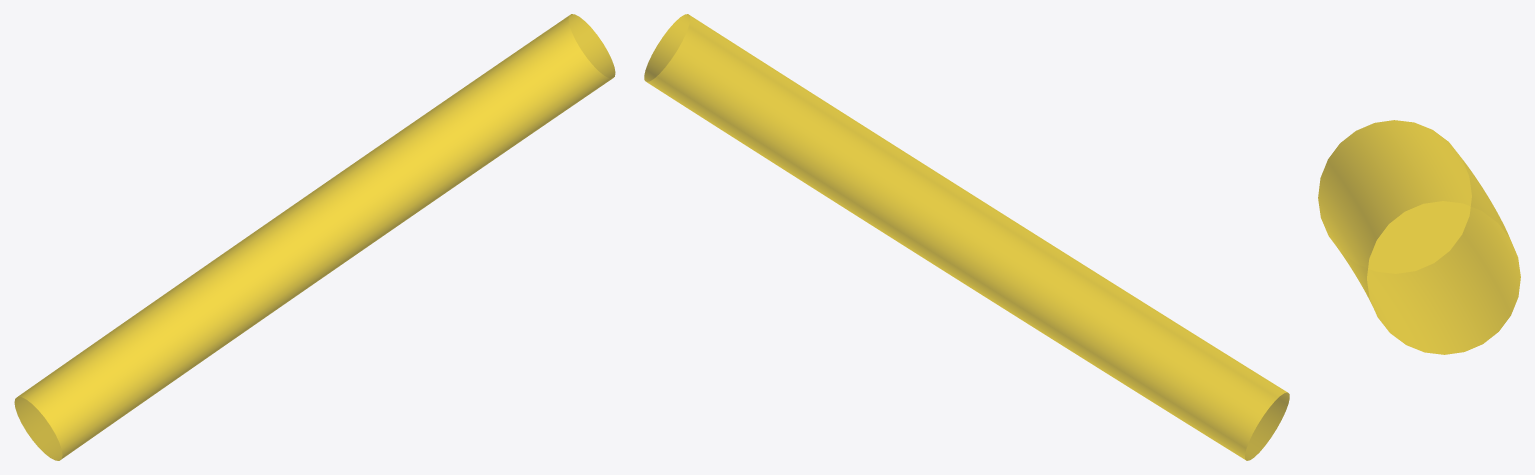
The model's file is Event_84804159_track_91.fbx.
3 renders of one model, left to right at view 1: azimuth 30°, elevation 25°; view 2: azimuth 150°, elevation 25°; view 3: azimuth 270°, elevation 25°, orthographic. The views are drawn at different scales.
Visible parts, largest first — view 1: Model; view 2: Model; view 3: Model.
Part boxes in pixels (x1,y1,x2,y2): Model: (14,14,615,460); Model: (644,14,1289,460); Model: (1318,120,1520,354).
Bounding box in the file's own units: 0.3537 × 0.1721 × 0.0526.
